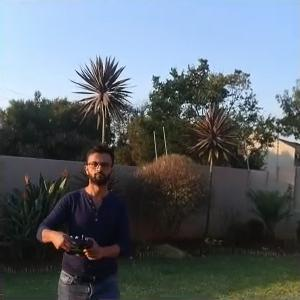follow: (32, 138, 137, 299)
